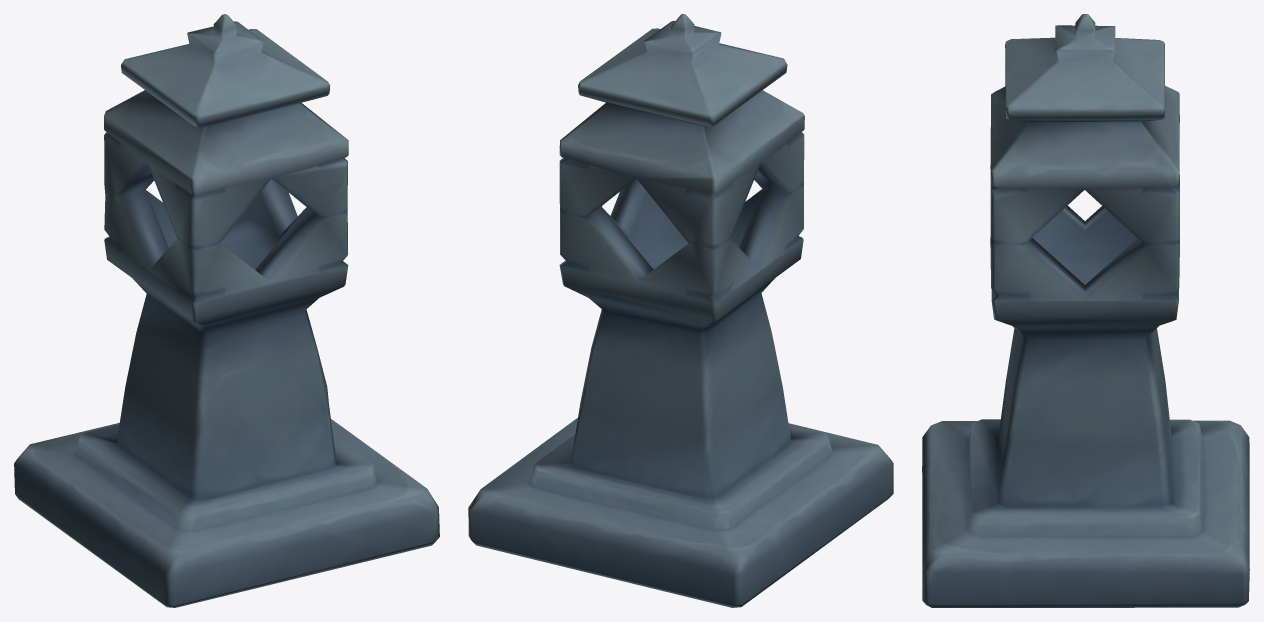
File: Meshy_AI_Floating_Stone_Lantern_20261128_texture.fbx
3 renders of one model, left to right at view 1: azimuth 30°, elevation 25°; view 2: azimuth 150°, elevation 25°; view 3: azimuth 270°, elevation 25°, orthographic. The views are drawn at different scales.
Parts seen in each view (by area): view 1: geometry_0; view 2: geometry_0; view 3: geometry_0.
Part boxes in pixels (x1,y1,x2,y2): geometry_0: [14, 14, 439, 607]; geometry_0: [468, 14, 893, 607]; geometry_0: [922, 14, 1249, 607].
Size of the model in its own units: 56.96 by 100 by 56.68.
Materials: 1 (1 with a texture image).
